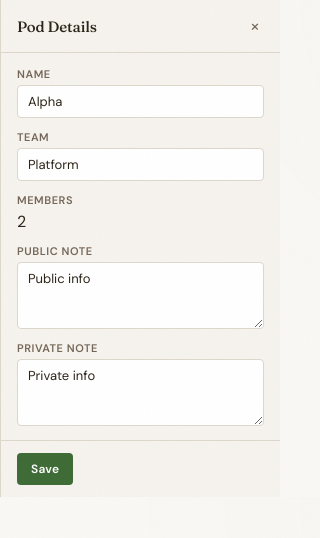
Test: PodSidebar › error and edge states › shows "Retry" and error message when updatePod rejects
Replace the text in the field showing "Alpha" below "Name" with "Alpha Renamed" at (140, 102), box x1=17 y1=85 x2=264 y2=118
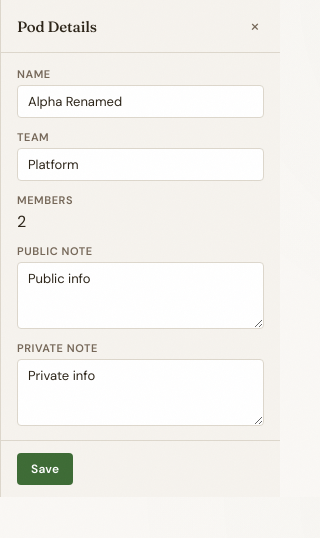
Click the button "Save".
click(45, 469)  # box x1=17 y1=453 x2=73 y2=485
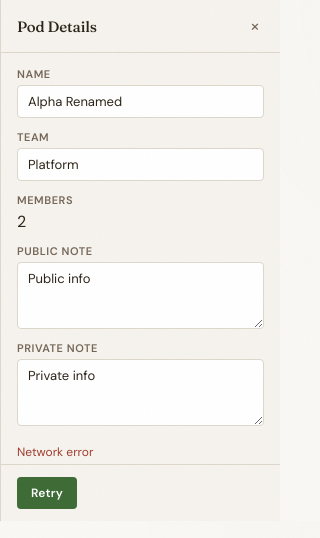
Now the button "Retry" is shown, box x1=17 y1=477 x2=77 y2=509
Now the text "Network error" is shown, box x1=17 y1=444 x2=93 y2=460
